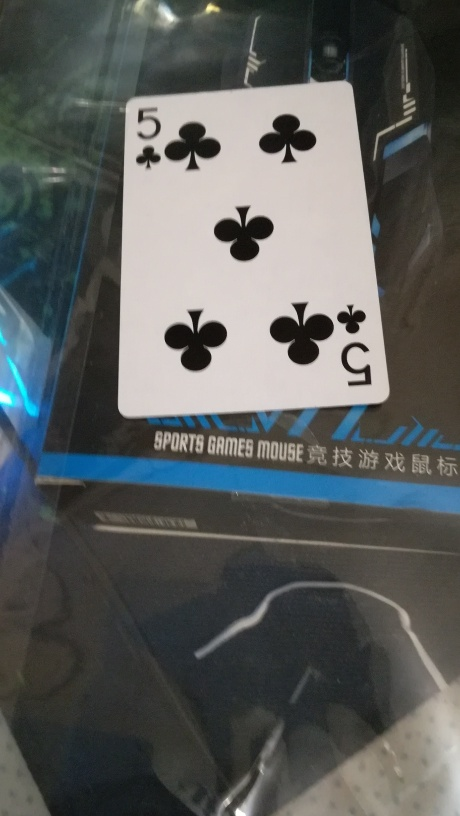mh 5: (116, 75, 389, 419)
